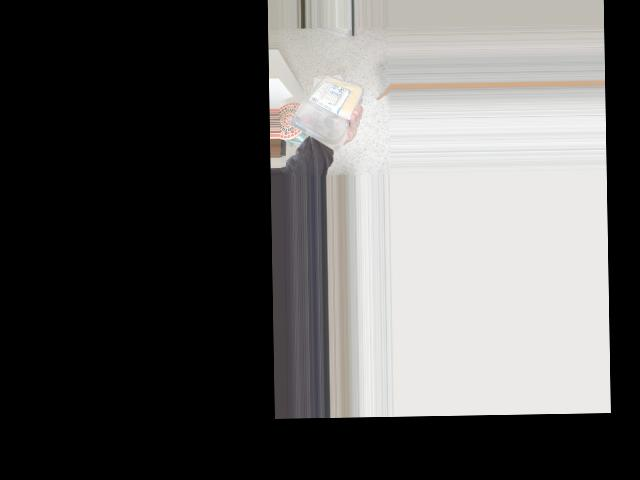cheese: (289, 70, 355, 141)
